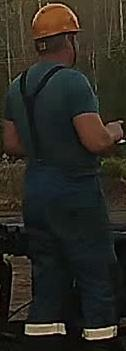helmet: (30, 2, 84, 40)
